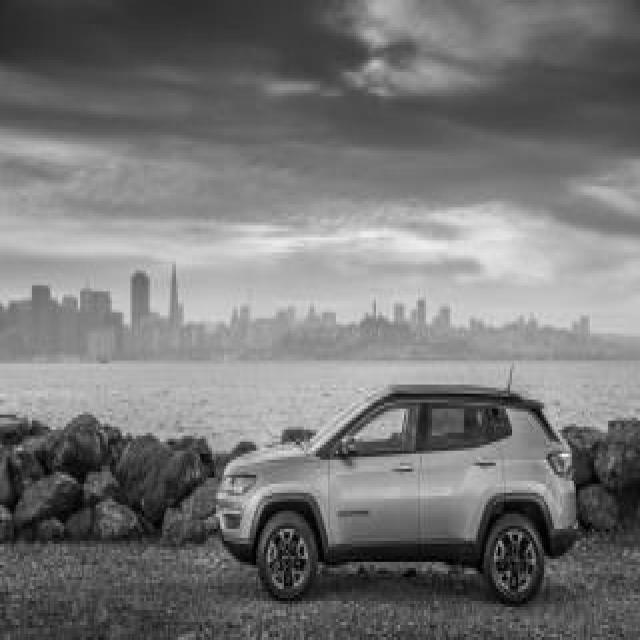Car: (218, 385, 576, 604)
